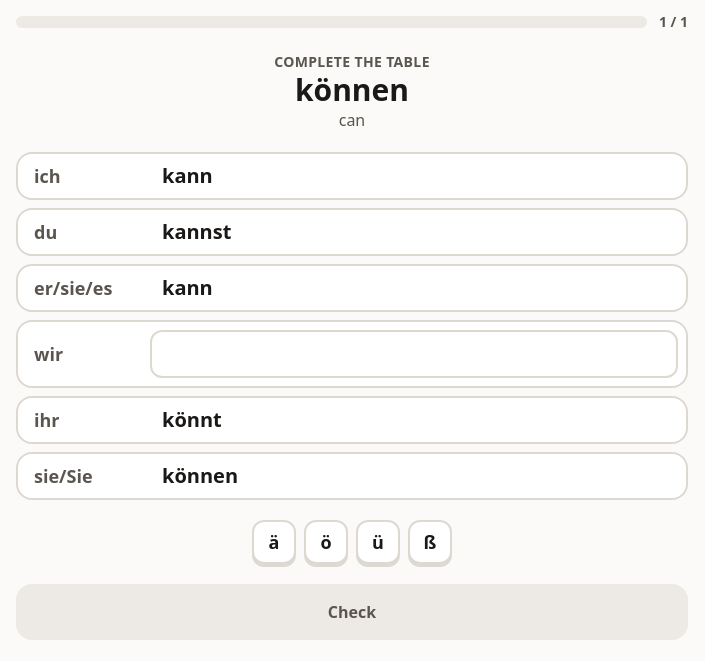
Scenario: Conjugation › inserts umlauts into the focused cell
The image size is (705, 661).
Type "k" into the field labelled "wir".
click(414, 354); type("k")  # box top-left (150, 330), bottom-right (678, 378)
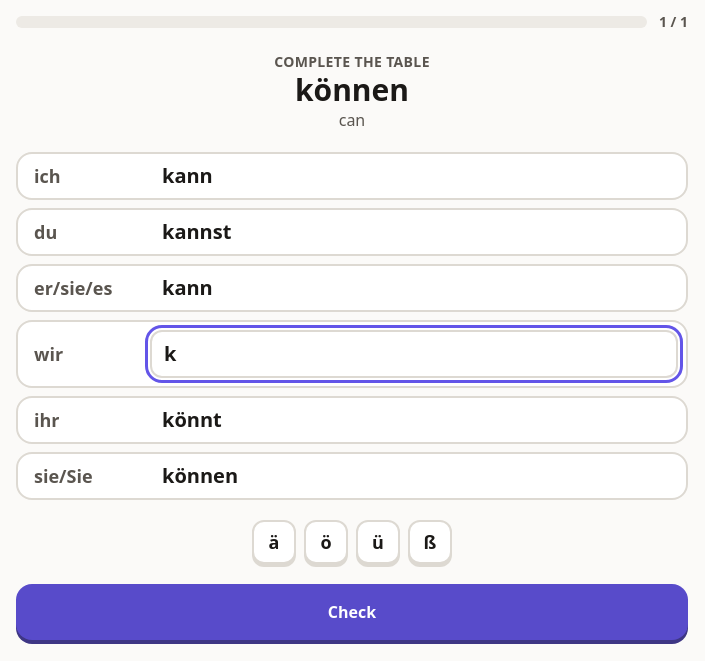
Click the button "ö".
click(326, 542)  # box top-left (304, 520), bottom-right (348, 564)
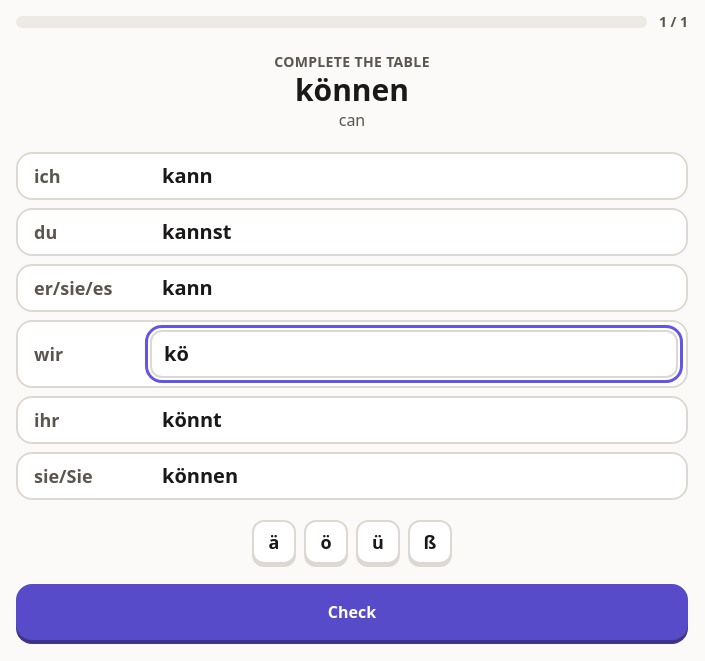
Type "nnen" into the field labelled "wir".
click(414, 354); type("nnen")  # box top-left (150, 330), bottom-right (678, 378)
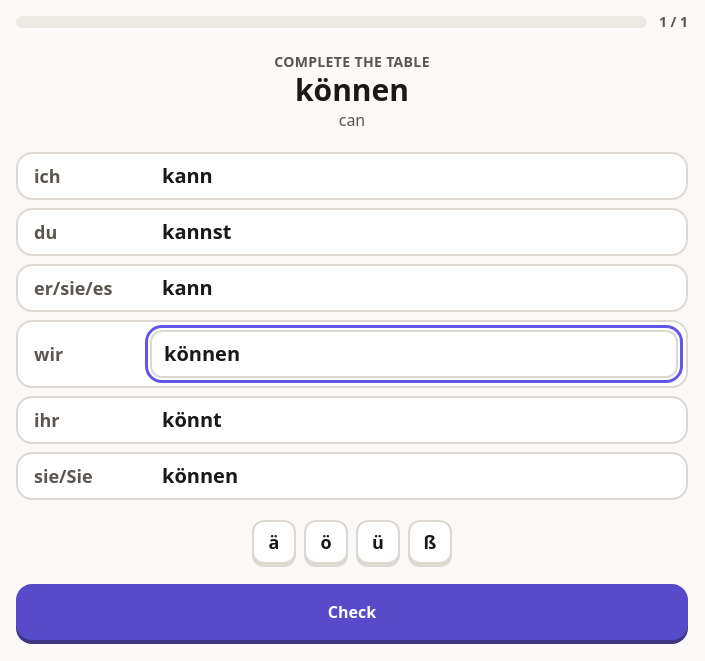
Check: the field labelled "wir" holds "können", box top-left (150, 330), bottom-right (678, 378)
